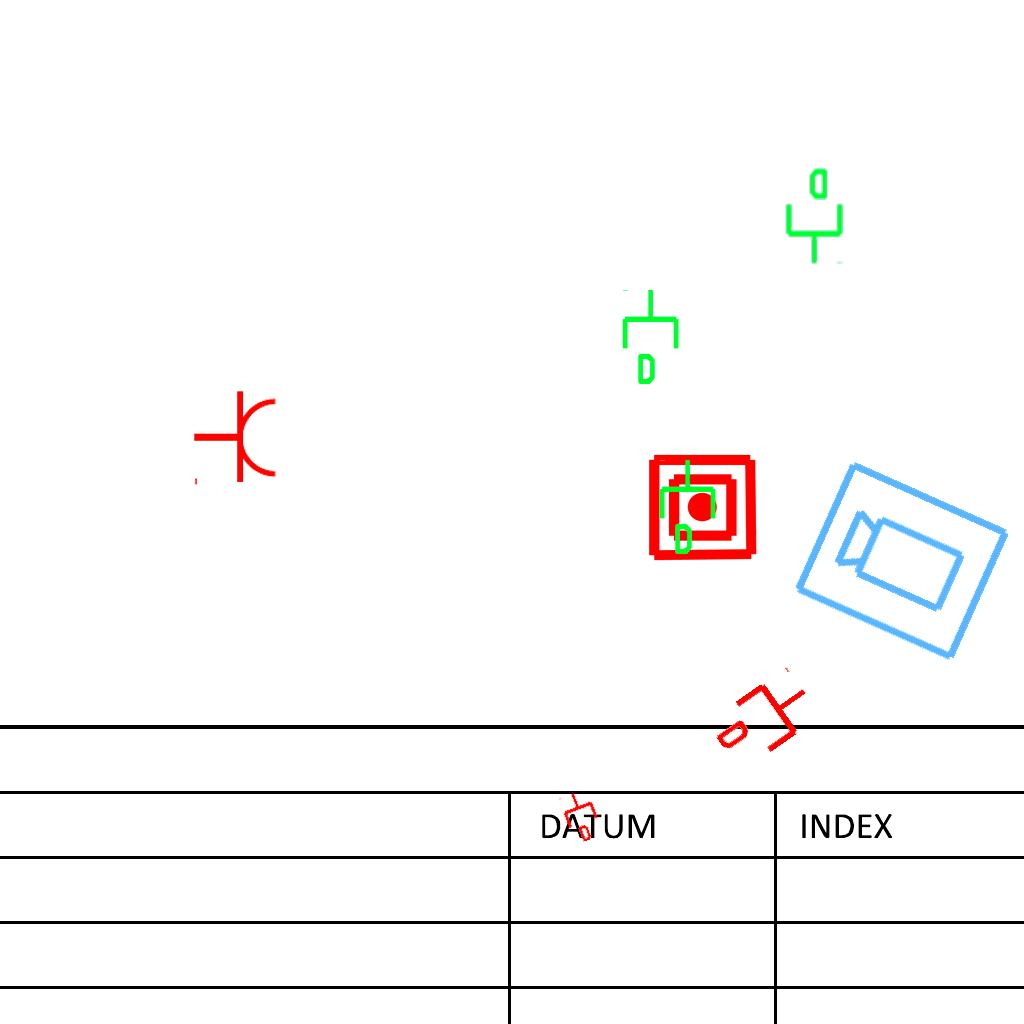Datenanschluss_einfach: (703, 662, 826, 776), (778, 166, 847, 266), (618, 287, 687, 387), (655, 457, 724, 557), (556, 786, 606, 846)
KFO_Kamera_mit_Festobjektiv: (788, 452, 1018, 668)
NAM-Nichtautomatischer_Melder: (646, 451, 759, 564)
Schukosteckdose_einfach: (192, 389, 279, 489)
